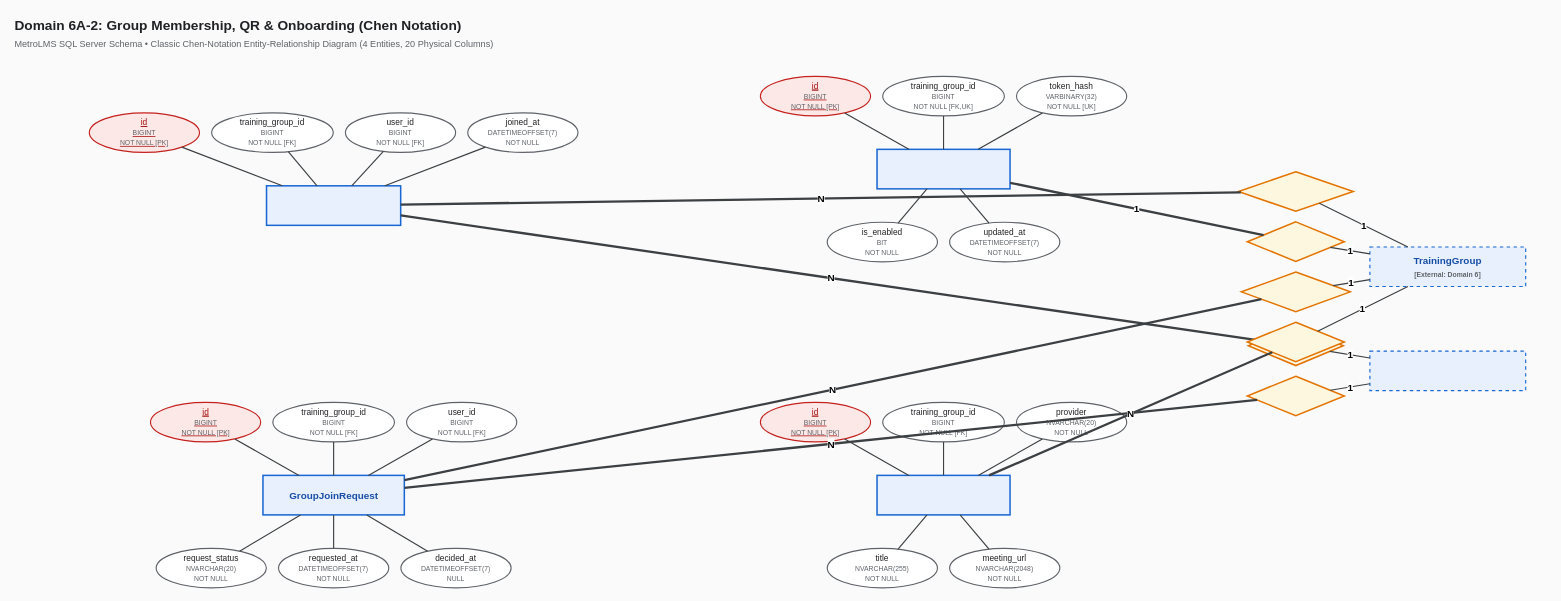
The diagram is 1561 pixels wide and 601 high, and some of its shapes have lost their labels. Here are the shapes that lost their labels. From the top down, the box of each, then its label:
(876, 148, 1010, 189): GroupQrCode
(265, 185, 401, 226): GroupMembership
(1237, 171, 1354, 212): member_of_group
(1246, 221, 1345, 262): qr_for_group
(1240, 271, 1351, 312): requests_group
(1246, 321, 1345, 362): resource_for
(1369, 350, 1526, 391): User [External: Domain 1]
(1246, 375, 1345, 416): requested_by
(876, 474, 1010, 515): GroupResource
